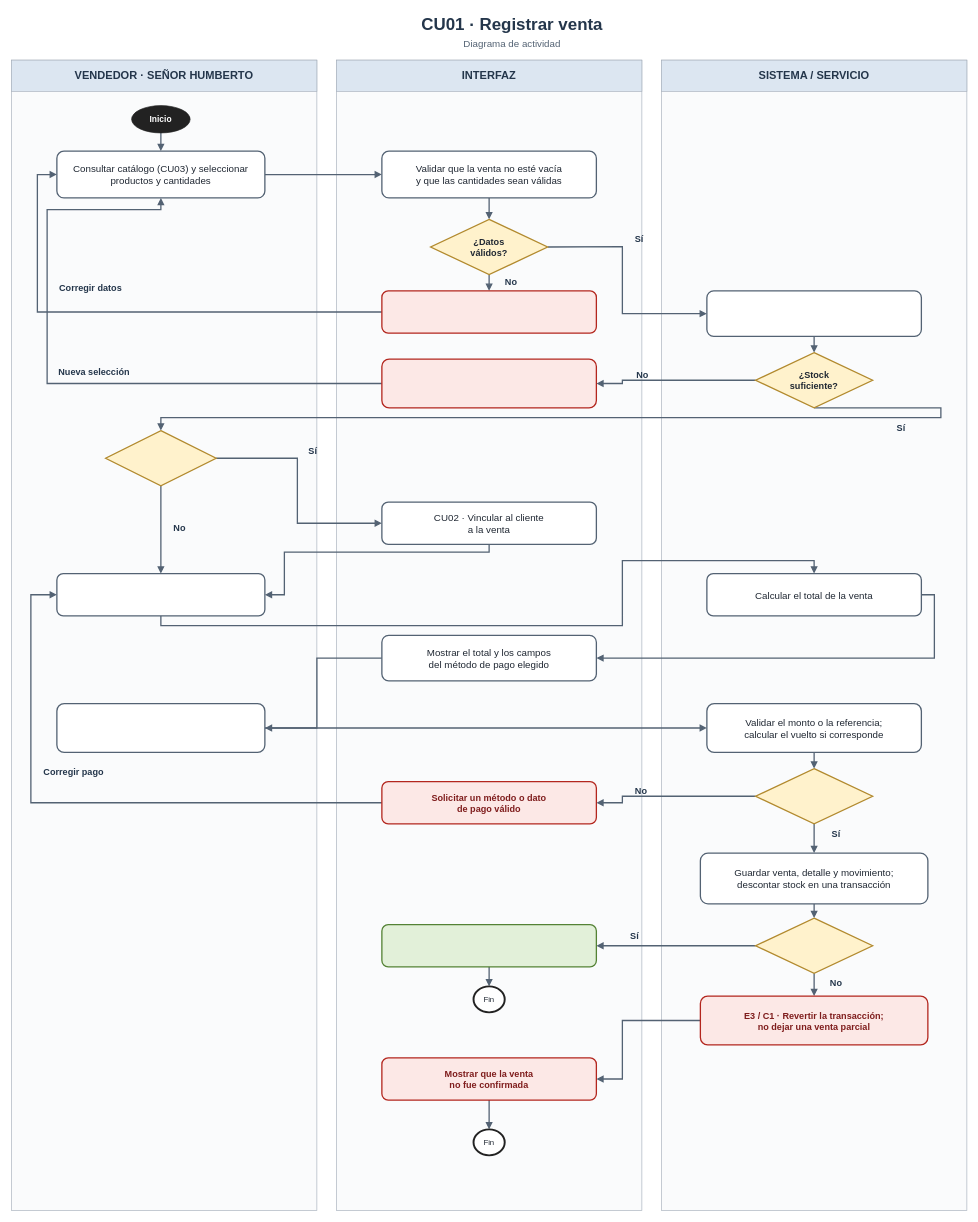
Image size: 978x1222. Some labels were removed from this diagram. The box of each missing label's shape, as (x1, y1, x2, y2) in pixels:
Comprobar productos activos y verificar stock suficiente: (706, 290, 922, 337)
E1 · Informar la falta de stock y rechazar el intento actual: (381, 358, 597, 408)
E2 · Solicitar corrección de la venta: (381, 290, 597, 333)
Elegir efectivo, Yape o Plin: (56, 573, 265, 616)
Mostrar la identificación de la venta: (381, 924, 597, 967)
Registrar el monto recibido o la referencia digital: (56, 703, 265, 753)
¿Cliente registrado?: (105, 430, 216, 486)
¿Datos de pago válidos?: (755, 768, 873, 824)
¿Se guardó correctamente?: (755, 917, 873, 974)
